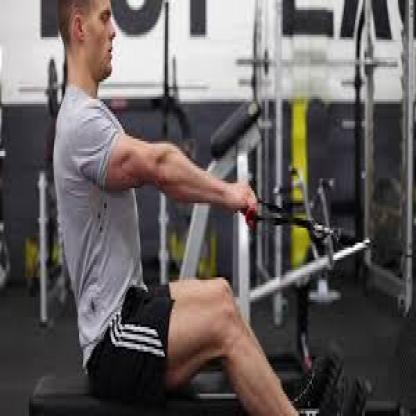Seated Cable Rows: (32, 0, 415, 416)
